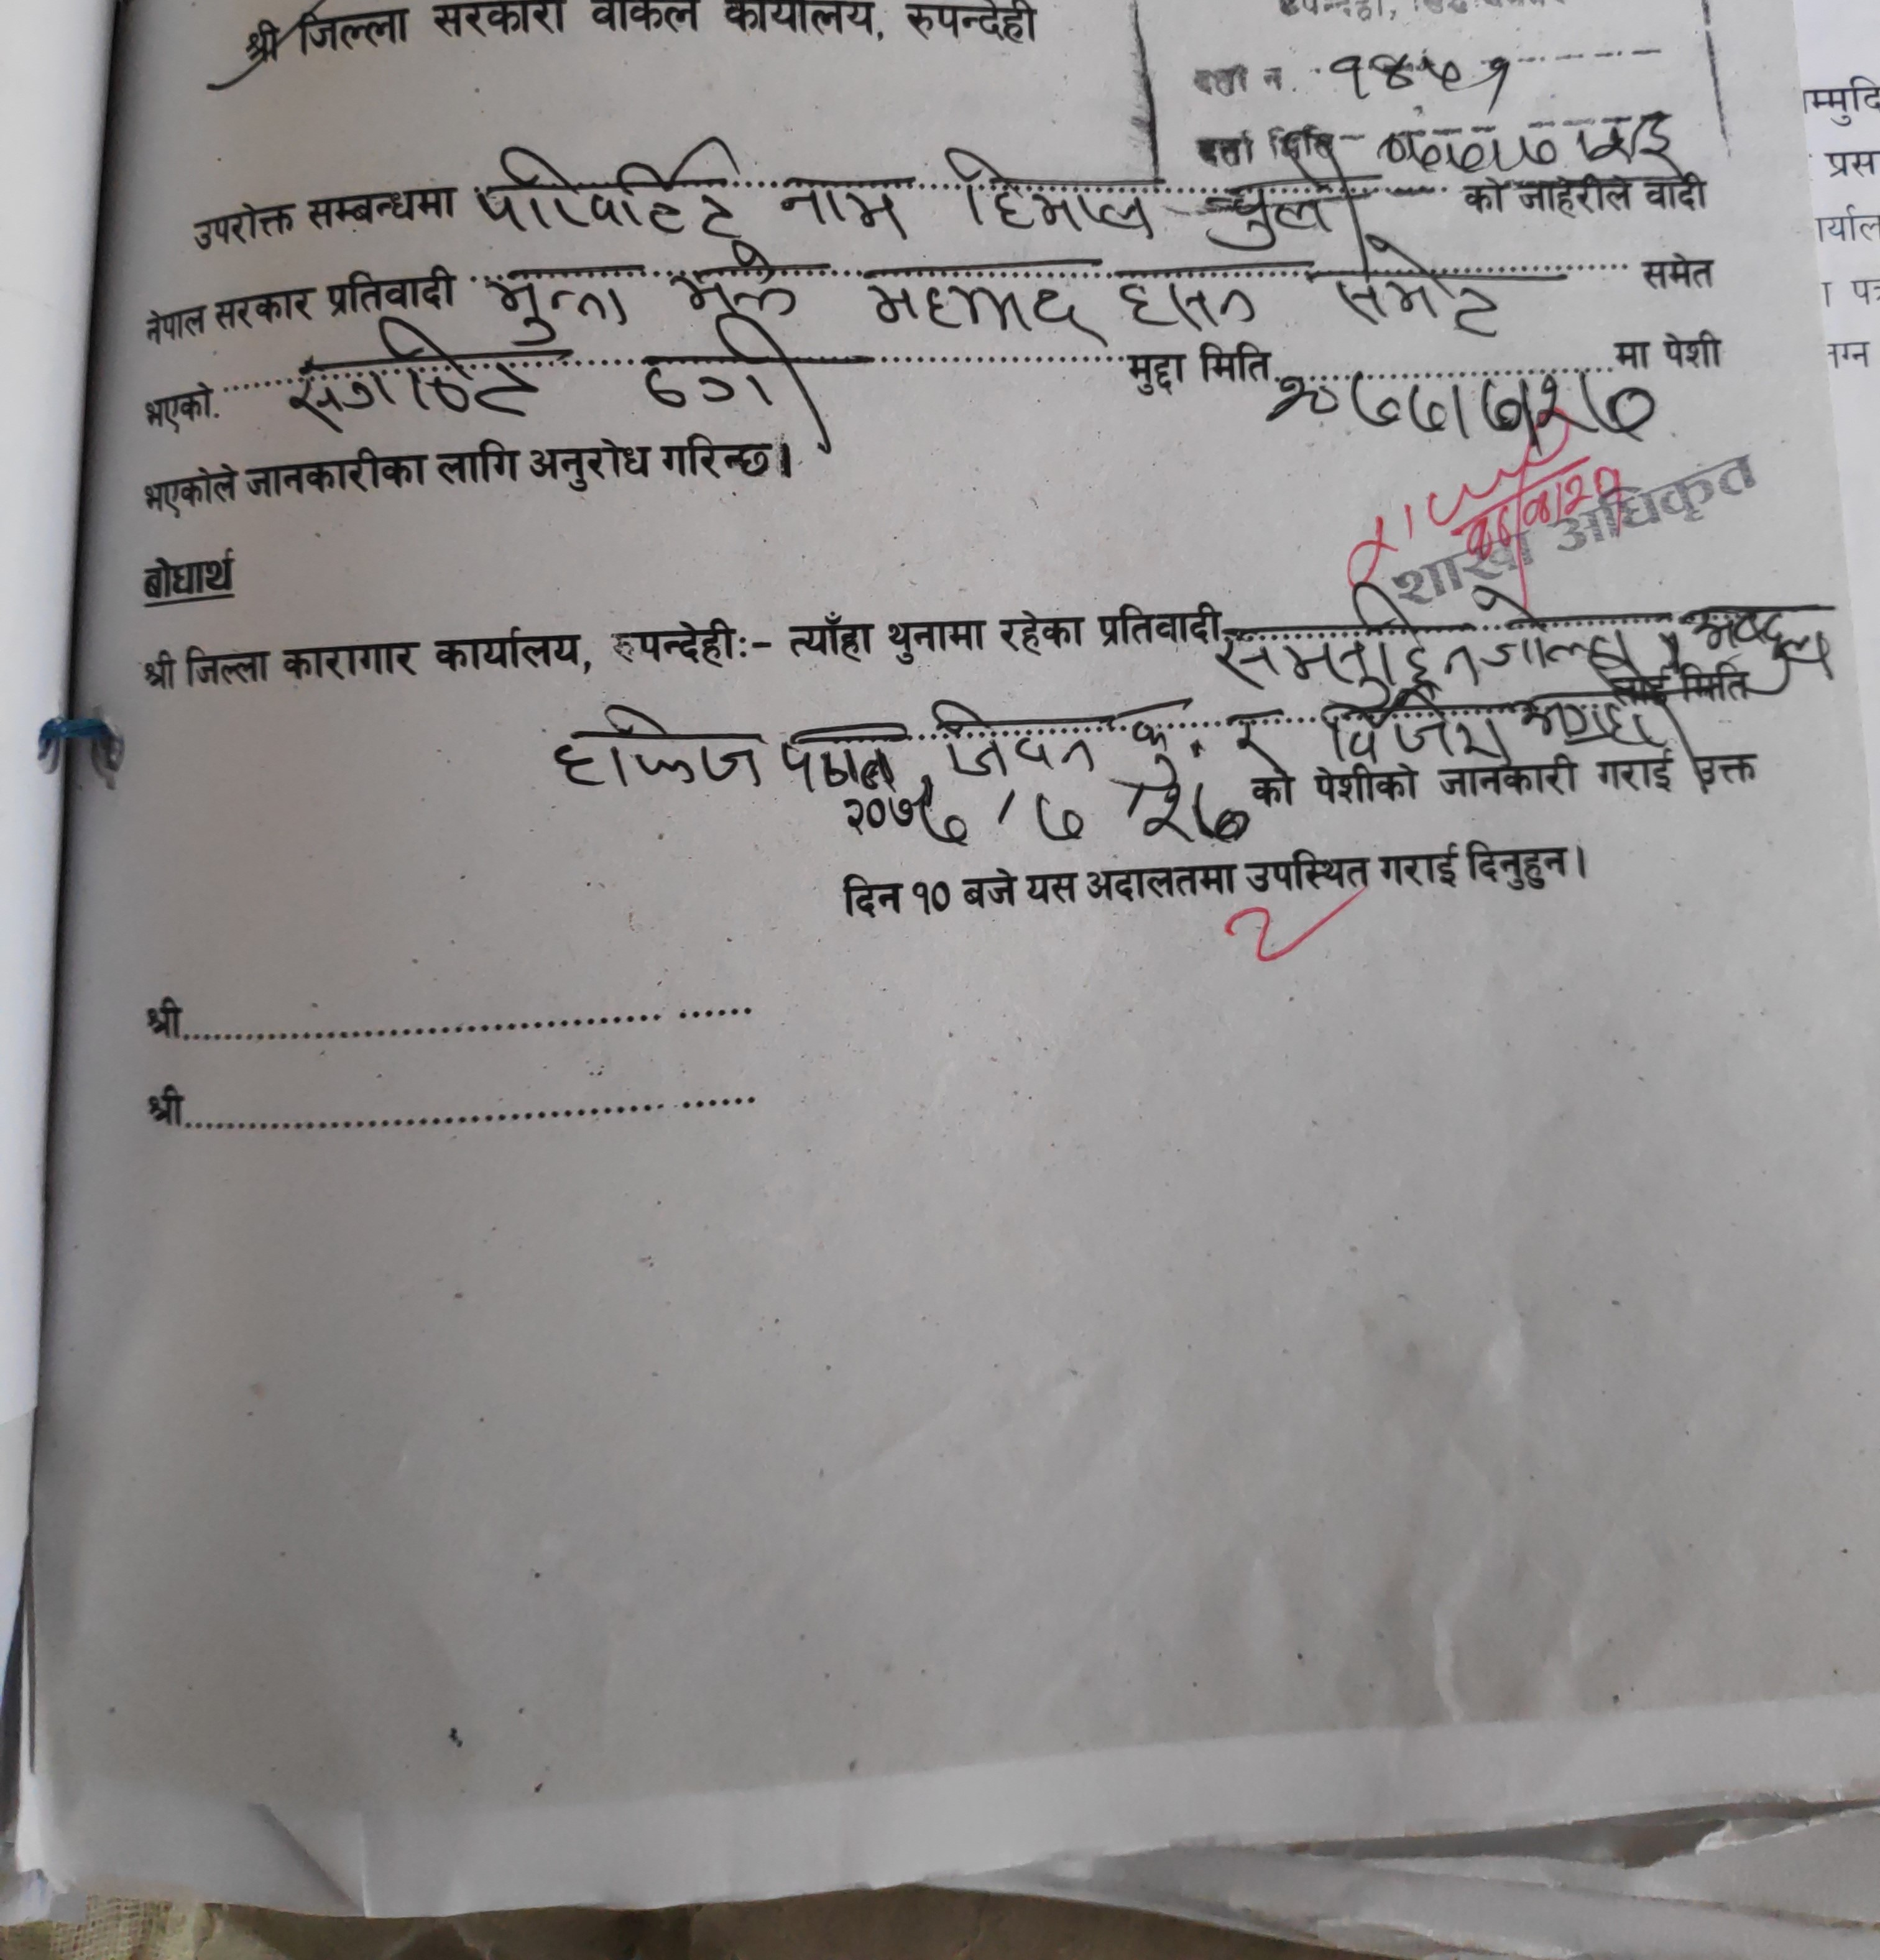text: (1267, 355, 1663, 450), (1215, 581, 1490, 711), (285, 315, 548, 434), (476, 133, 744, 243), (1374, 100, 1687, 177), (942, 142, 1161, 245), (1311, 243, 1528, 345), (635, 313, 824, 429), (854, 259, 1101, 346), (550, 705, 768, 794), (924, 690, 1099, 775), (1481, 586, 1635, 682), (1512, 674, 1687, 758), (1316, 693, 1516, 765), (1322, 42, 1514, 114), (1199, 171, 1376, 249), (485, 261, 634, 346), (1105, 264, 1273, 338), (770, 163, 910, 240), (775, 717, 905, 796), (1677, 602, 1791, 688), (662, 259, 807, 313), (1112, 702, 1189, 793)
